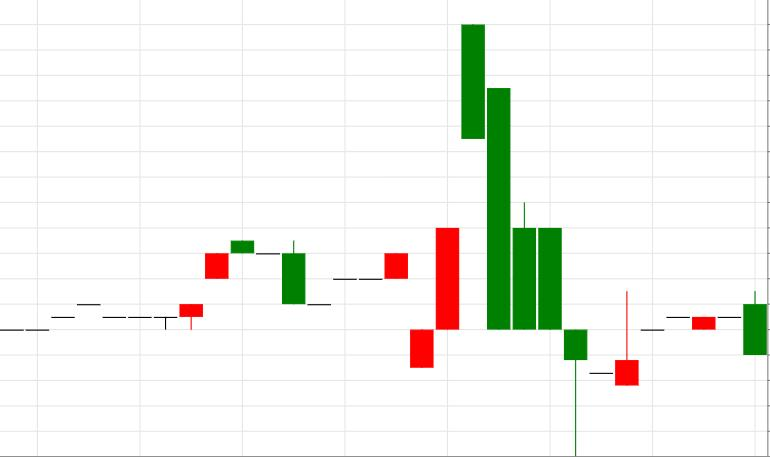hammer_rise: (461, 25, 587, 457)
